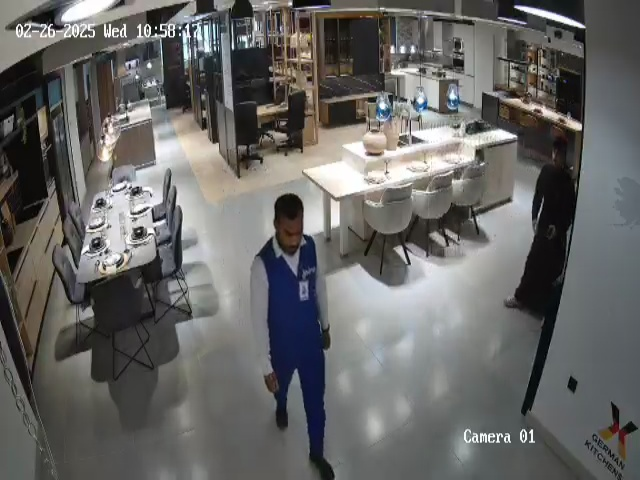employee: (236, 194, 361, 480)
male: (504, 127, 577, 320)
